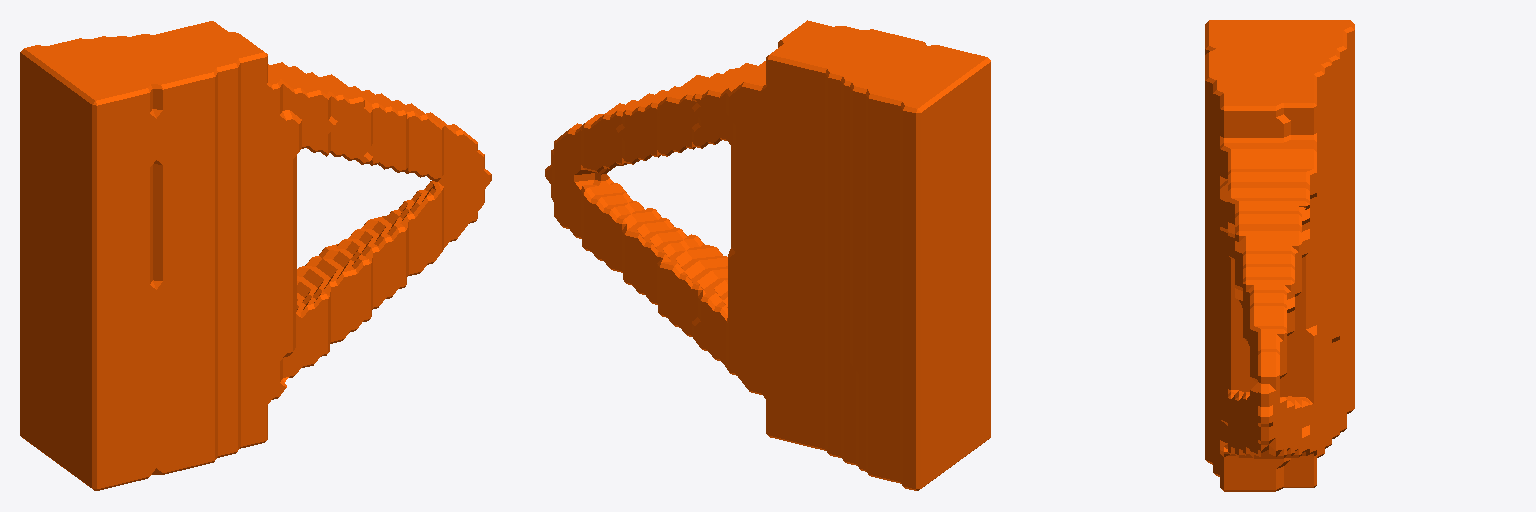
robot.urdf — Purse_brown_d58:
<robot name="Purse_brown_d58">
   <material name="obj_color">
      <color rgba="1.0 0.423529411765 0.0392156862745 1.0" />
   </material>
   <link name="top">
      <inertial>
         <origin rpy="0.0001847061641388241 0.0002619751983119801 0.0004049239557242528" xyz="-0.008447561561173938 -0.0002209274005973796 -0.0001038403726582971" />
         <mass value="0.24875" />
         <inertia ixx="0.0002621298112257188" ixy="5.329575561168395e-06" ixz="-1.854178071871747e-06" iyy="0.0004047249297064603" iyz="-8.475311394604246e-08" izz="0.0001847505772428781" />
      </inertial>
      <visual>
         <origin rpy="0 0 0" xyz="0 0 0" />
         <geometry>
            <mesh filename="top_watertight_tiny.stl" scale="1 1 1" />
         </geometry>
         <material name="obj_color" />
      </visual>
      <collision>
         <origin rpy="0 0 0" xyz="0 0 0" />
         <geometry>
            <mesh filename="top_watertight_tiny.obj" scale="1 1 1" />
         </geometry>
      </collision>
   </link>
   <link name="bottom">
      <inertial>
         <origin rpy="1.633333333194242e-08 1.633333333194243e-08 1.633333333357667e-08" xyz="0.3464080000000008 0.3464080000000008 0.3464080000000008" />
         <mass value="0.0009800000000000017" />
         <inertia ixx="1.633333333248717e-08" ixy="5.447480642029219e-19" ixz="5.447480642029219e-19" iyy="1.633333333248717e-08" iyz="5.447480642029219e-19" izz="1.633333333248717e-08" />
      </inertial>
      <visual>
         <origin rpy="0 0 0" xyz="0 0 0" />
         <geometry>
            <mesh filename="bottom_watertight_tiny.stl" scale="1 1 1" />
         </geometry>
         <material name="obj_color" />
      </visual>
   </link>
   <link name="world" />
   <joint name="world_to_base" type="fixed">
      <origin xyz="0 0 0" />
      <axis xyz="0 0 0" />
      <parent link="world" />
      <child link="bottom" />
   </joint>
   <joint name="rotation" type="revolute">
      <origin xyz="0 0 0" />
      <axis xyz="0 0 -1" />
      <parent link="bottom" />
      <child link="top" />
      <dynamics damping="1.0" friction="1.0" />
      <limit effort="0.1" velocity="0.1" lower="0" upper="0.001" />
   </joint>
</robot>

--- Render facts (derived) ---
3 views of the same robot in one strip: view 1: azimuth 30°, elevation 25°; view 2: azimuth 150°, elevation 25°; view 3: azimuth 270°, elevation 25° (orthographic).
Robot: Purse_brown_d58 — 3 links, 2 joints (1 revolute, 1 fixed); root link world; default pose: all joints at 0.
Links seen in each view (by area): view 1: top; view 2: top; view 3: top.
Boxes of the visible links, left/top/right/bottom form: top: left=20, top=21, right=491, bottom=490; top: left=545, top=20, right=990, bottom=490; top: left=1205, top=20, right=1354, bottom=491.
Size in the robot's own frame: 0.1285 by 0.0395 by 0.1127 metres.
1 mesh visuals loaded from 2 distinct referenced files (1 binary STL); not drawn: 1 (reference not matched to a file when rendering).